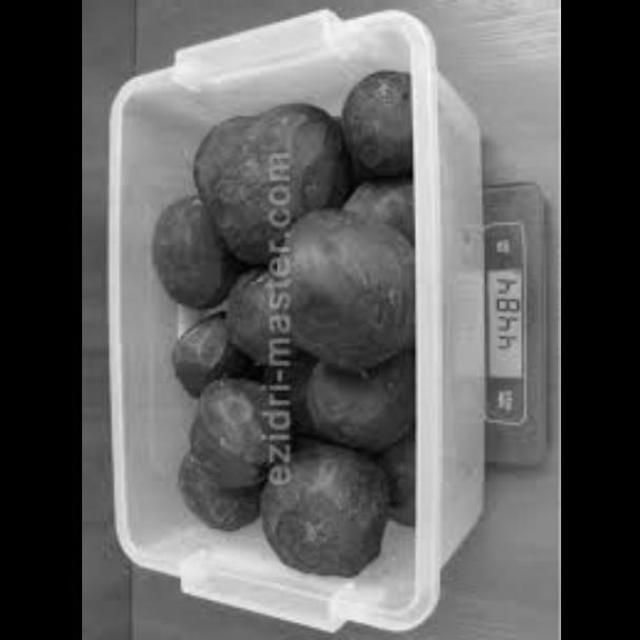sugar beet: (160, 96, 400, 574)
